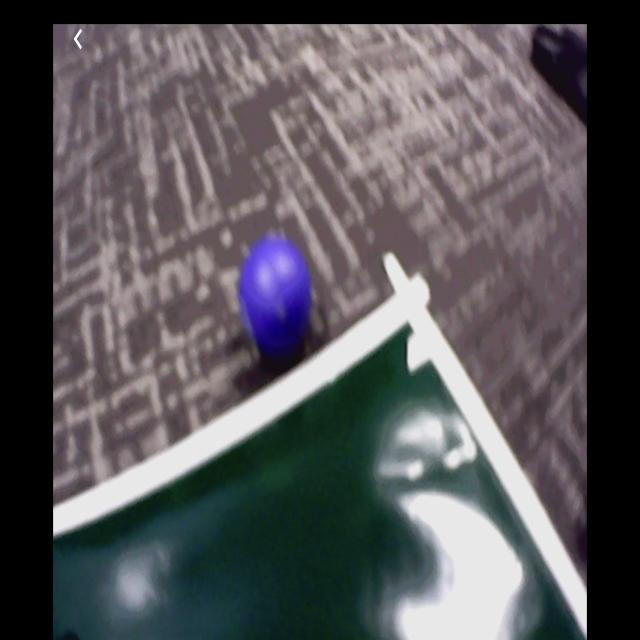ball: (245, 239, 315, 358)
